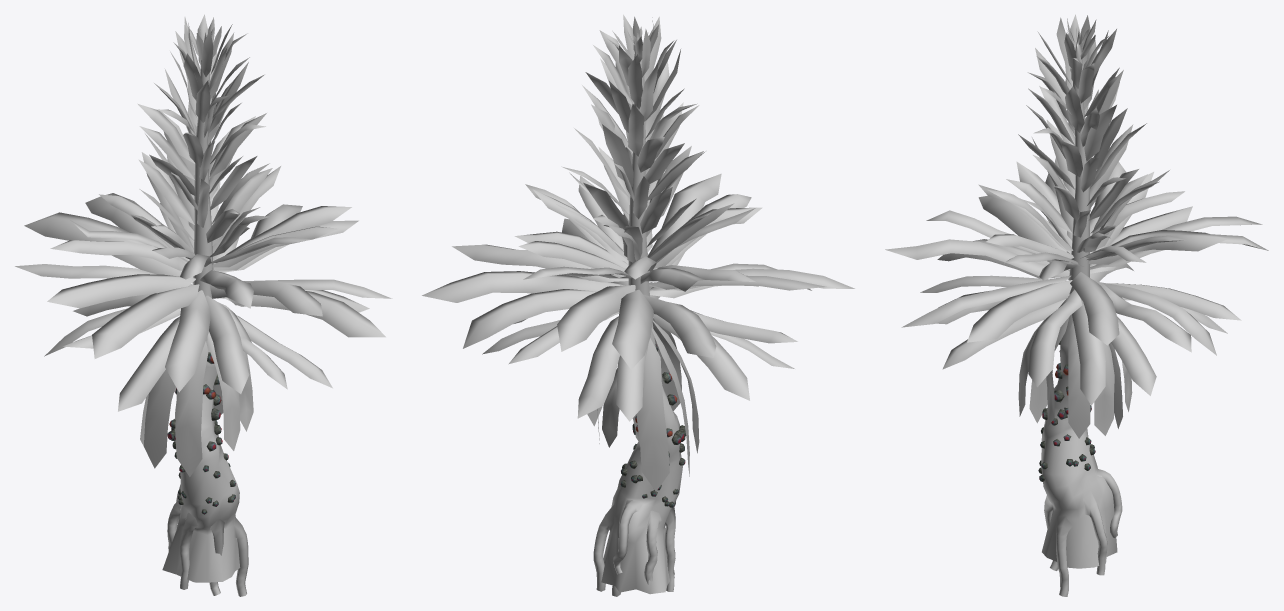
File: Plant15B_L1.fbx
The picture shows the model from 3 angles, left to right: view 1: azimuth 30°, elevation 25°; view 2: azimuth 150°, elevation 25°; view 3: azimuth 270°, elevation 25°; orthographic projection. The views are drawn at different scales.
Parts seen in each view (by area): view 1: polySurface1986; view 2: polySurface1986; view 3: polySurface1986.
Part boxes in pixels (x1,y1,x2,y2): polySurface1986: (15,14,392,596); polySurface1986: (422,14,854,596); polySurface1986: (885,14,1268,596).
Bounding box in the file's own units: 324 × 524 × 325.
